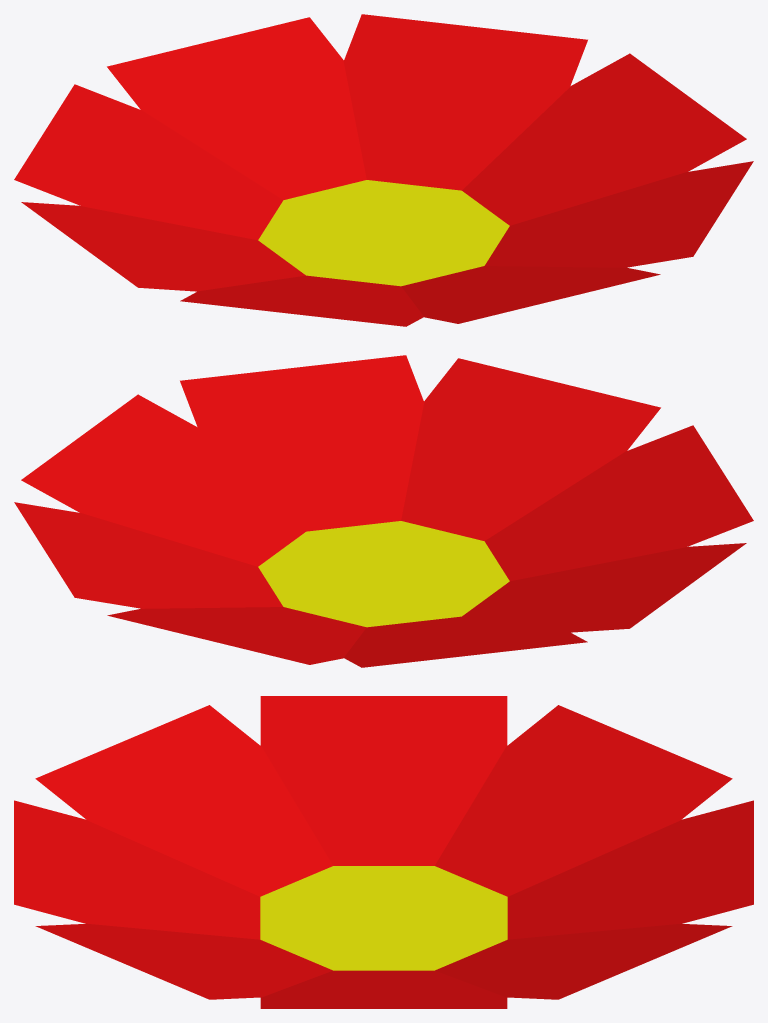
The model's file is flower_8.glb.
3 views of the same model, one above another, from view 1: azimuth 30°, elevation 25°; view 2: azimuth 150°, elevation 25°; view 3: azimuth 270°, elevation 25° (orthographic). The views are drawn at different scales.
Visible parts, largest first — view 1: flower_8; view 2: flower_8; view 3: flower_8.
Part boxes in pixels (bbox=[...]): flower_8: bbox=[14, 14, 753, 326]; flower_8: bbox=[14, 355, 753, 667]; flower_8: bbox=[14, 696, 753, 1008].
Bounding box in the file's own units: 0.4262 × 0.0419 × 0.4262.
